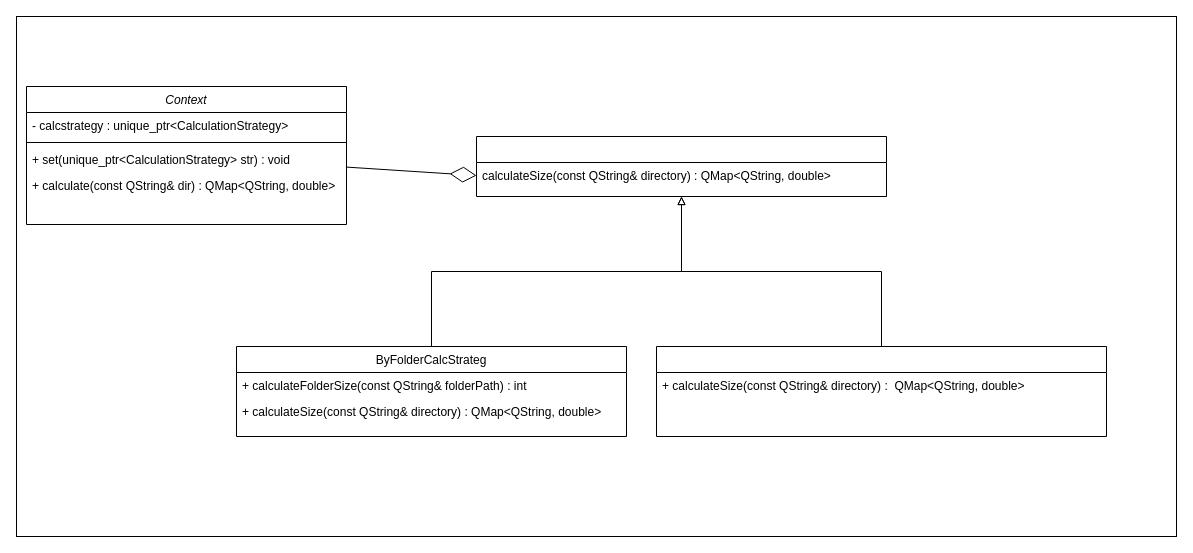
The diagram is 1193 pixels wide and 553 high, and some of its shapes have lost their labels. Here are the shapes that lost their labels. From the top down, the box of each, then its label:
(476, 136, 886, 196): CalculationStrategy
(656, 346, 1106, 436): ByTypeCalcStrateg
